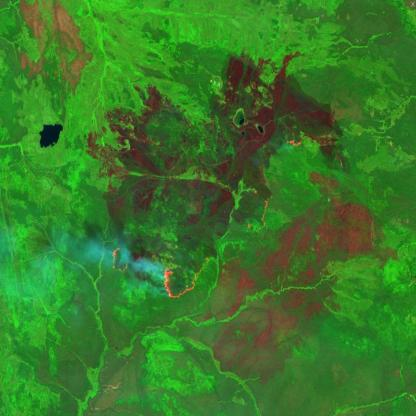fire: (107, 244, 202, 304)
